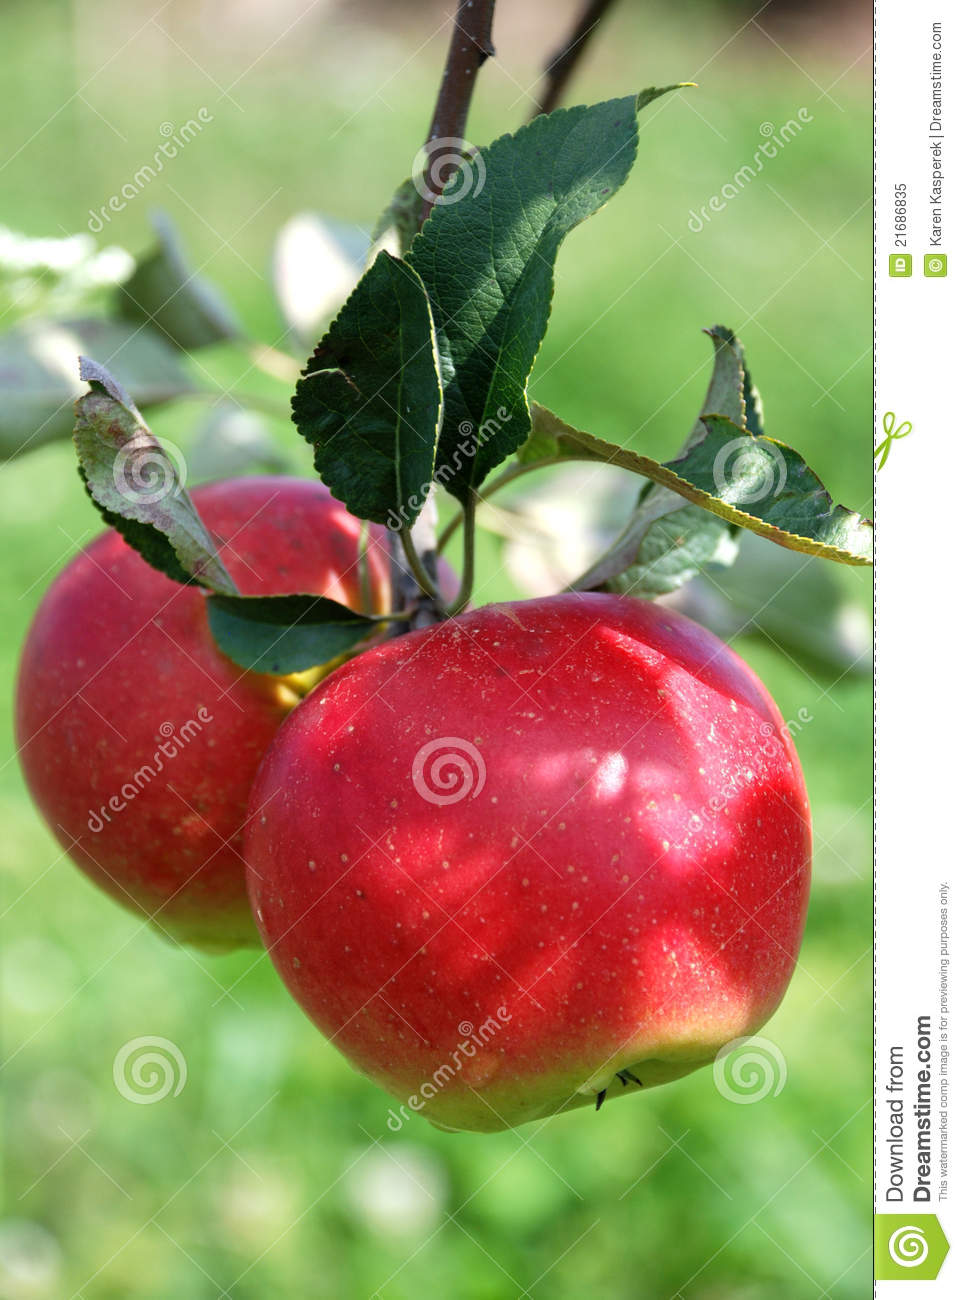apple: (260, 601, 807, 1107)
obscured(2)_apple: (21, 476, 468, 944)
